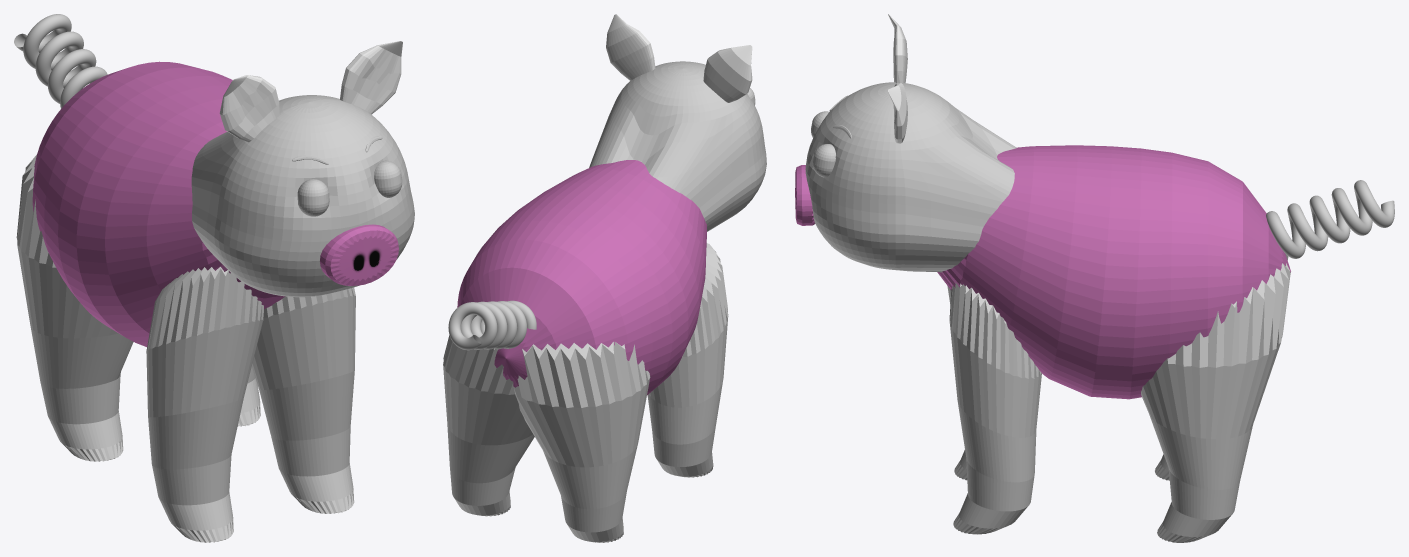
The model's file is PIG.fbx.
3 renders of one model, left to right at view 1: azimuth 30°, elevation 25°; view 2: azimuth 150°, elevation 25°; view 3: azimuth 270°, elevation 25°, orthographic. The views are drawn at different scales.
Visible parts, largest first — view 1: Cilindro.005, Cilindro, Esfera, Cilindro.001, Círculo, Cilindro.006, Esfera.001; view 2: Cilindro.005, Cilindro, Esfera, Cilindro.001, Círculo; view 3: Cilindro, Cilindro.005, Esfera, Círculo, Cilindro.001, Cilindro.006, Esfera.001.
Part boxes in pixels (box(x1,y1,x2,y2)): Cilindro.005: box(16, 154, 355, 542); Cilindro: box(32, 61, 285, 346); Esfera: box(191, 95, 414, 297); Cilindro.001: box(219, 41, 402, 142); Círculo: box(14, 14, 107, 108); Cilindro.006: box(320, 224, 398, 285); Esfera.001: box(297, 160, 402, 216); Cilindro.005: box(443, 243, 728, 542); Cilindro: box(457, 160, 706, 395); Esfera: box(589, 61, 766, 231); Cilindro.001: box(606, 14, 752, 102); Círculo: box(448, 300, 536, 350); Cilindro: box(937, 145, 1290, 399); Cilindro.005: box(947, 254, 1290, 542); Esfera: box(805, 82, 1016, 272); Círculo: box(1266, 180, 1394, 258); Cilindro.001: box(888, 14, 907, 143); Cilindro.006: box(795, 165, 814, 225); Esfera.001: box(811, 111, 835, 177).
Size of the model in its own units: 91 by 179 by 215.
